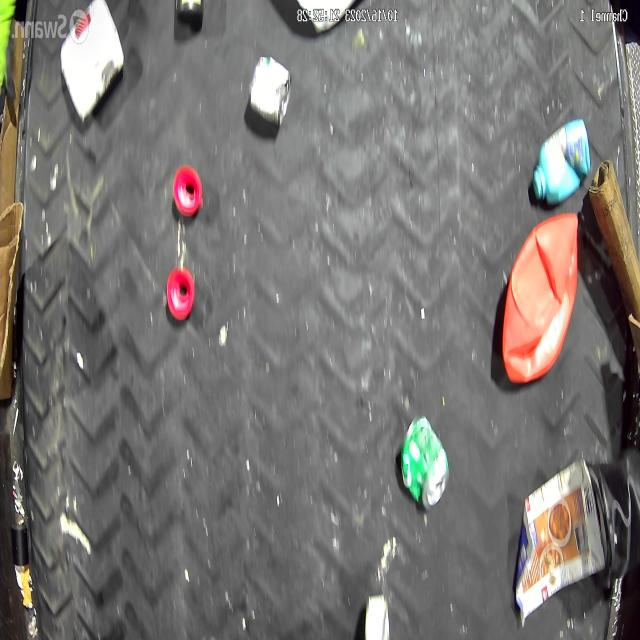can: (59, 0, 125, 121), (399, 412, 450, 514), (248, 52, 292, 130)
non_white_jug: (500, 208, 580, 387)
